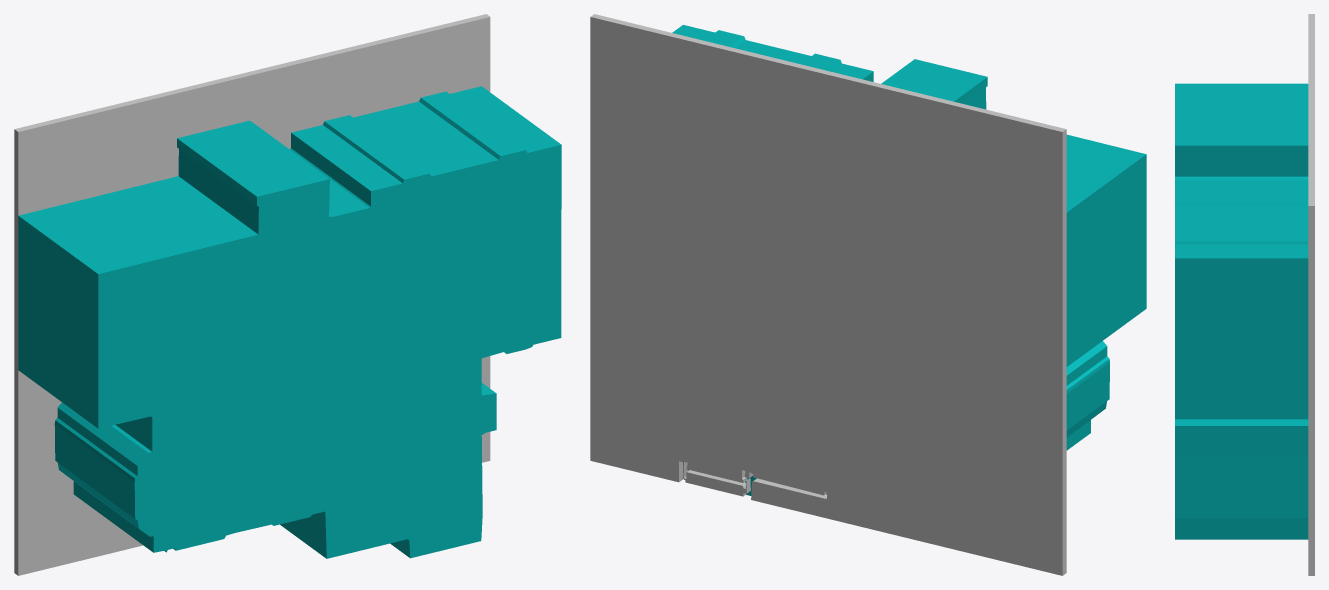
The picture shows the model from 3 angles, left to right: view 1: azimuth 30°, elevation 25°; view 2: azimuth 150°, elevation 25°; view 3: azimuth 270°, elevation 25°; orthographic projection. The views are drawn at different scales.
Parts seen in each view (by area): view 1: world; view 2: world; view 3: world.
Boxes of the visible parts, x1,y1,x2,y2 form: world: [14, 14, 561, 575]; world: [590, 14, 1146, 575]; world: [1175, 14, 1314, 575].
Size of the model in its own units: 10.23 by 9.19 by 3.15.
